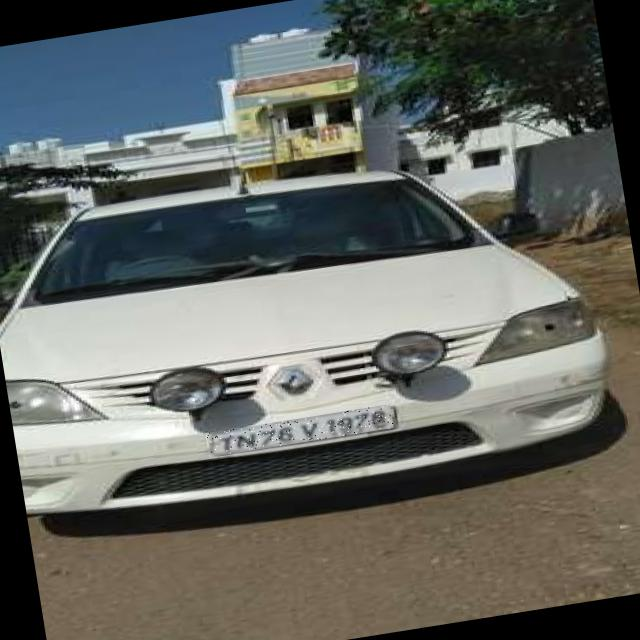Plate: (207, 406, 395, 459)
